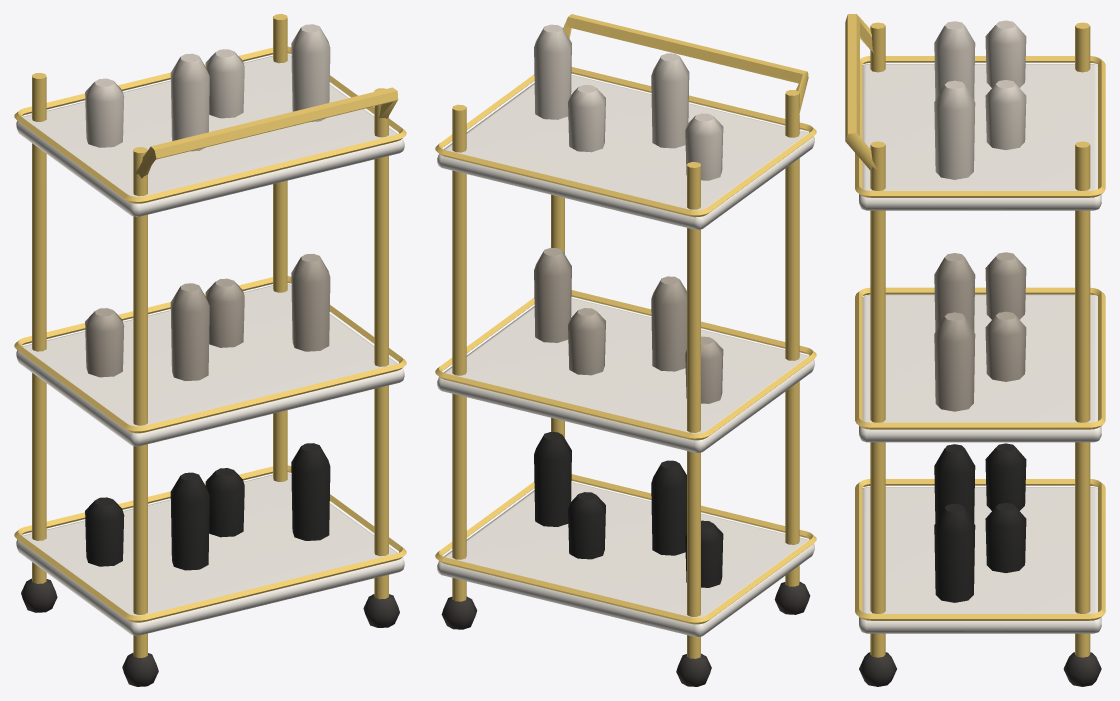
The model's file is trolley_salon.glb.
3 views of the same model, side by side, from view 1: azimuth 30°, elevation 25°; view 2: azimuth 150°, elevation 25°; view 3: azimuth 270°, elevation 25° (orthographic). The views are drawn at different scales.
Parts seen in each view (by area): view 1: trolley_salon; view 2: trolley_salon; view 3: trolley_salon.
Part boxes in pixels (box(x1,y1,x2,y2)): trolley_salon: box(14, 14, 406, 686); trolley_salon: box(435, 14, 816, 686); trolley_salon: box(845, 14, 1105, 686).
Size of the model in its own units: 0.512 by 1.01 by 0.4072.
